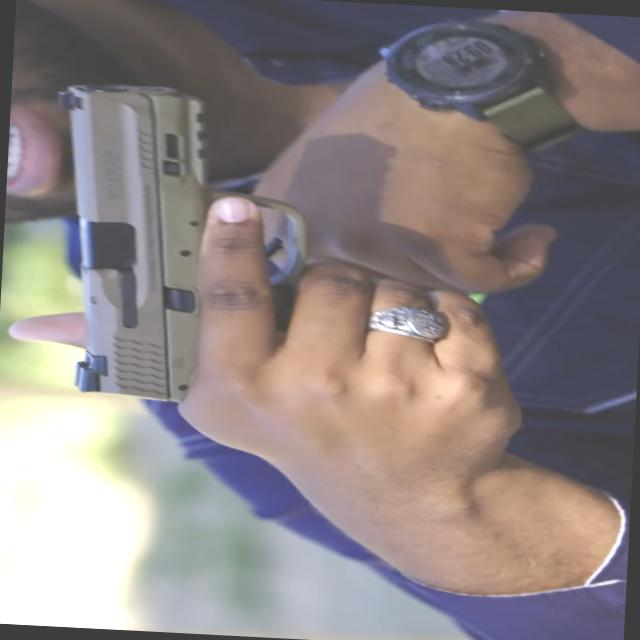handgun: (10, 65, 438, 452)
